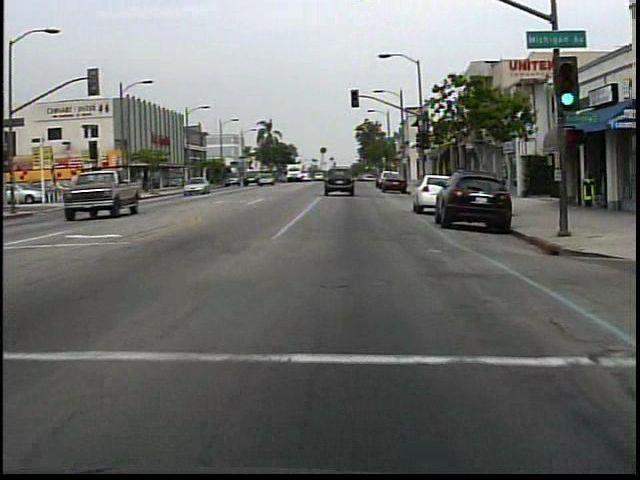person: (91, 179, 109, 207)
